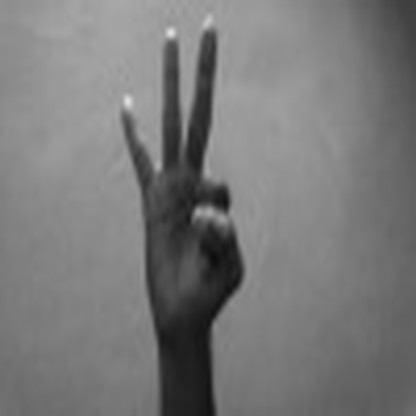f: (114, 10, 252, 314)
